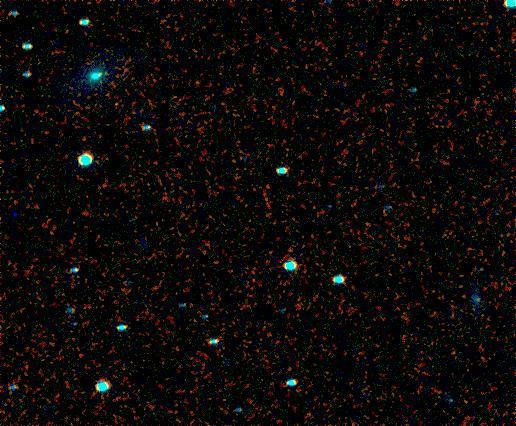star: (0, 200, 30, 230)
